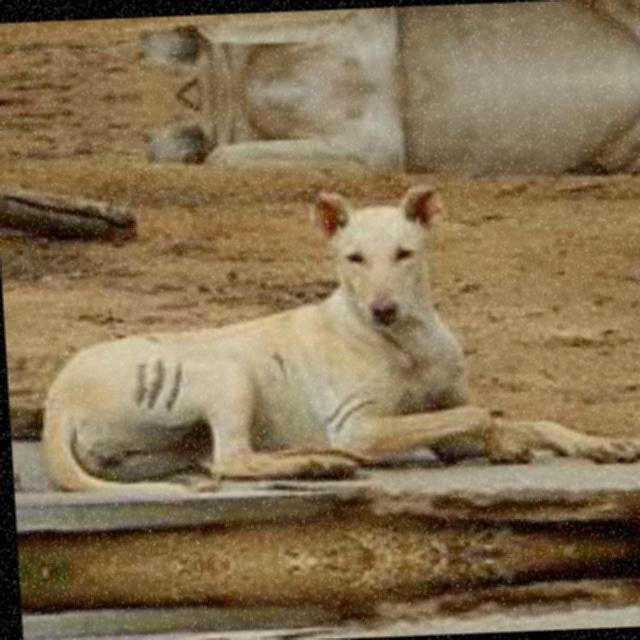dog: (9, 180, 513, 548), (33, 577, 520, 640)
